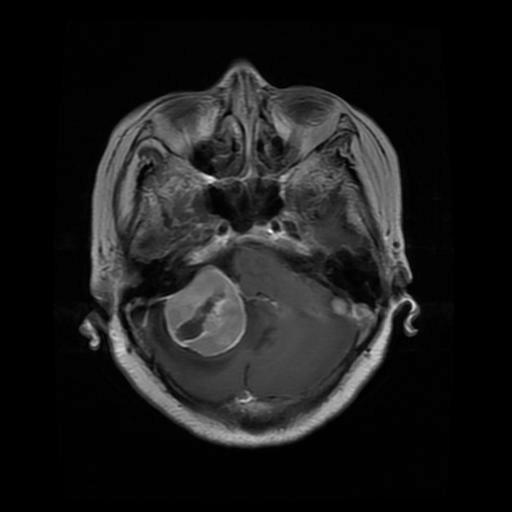Tumour-Meningioma: (150, 260, 274, 367)
